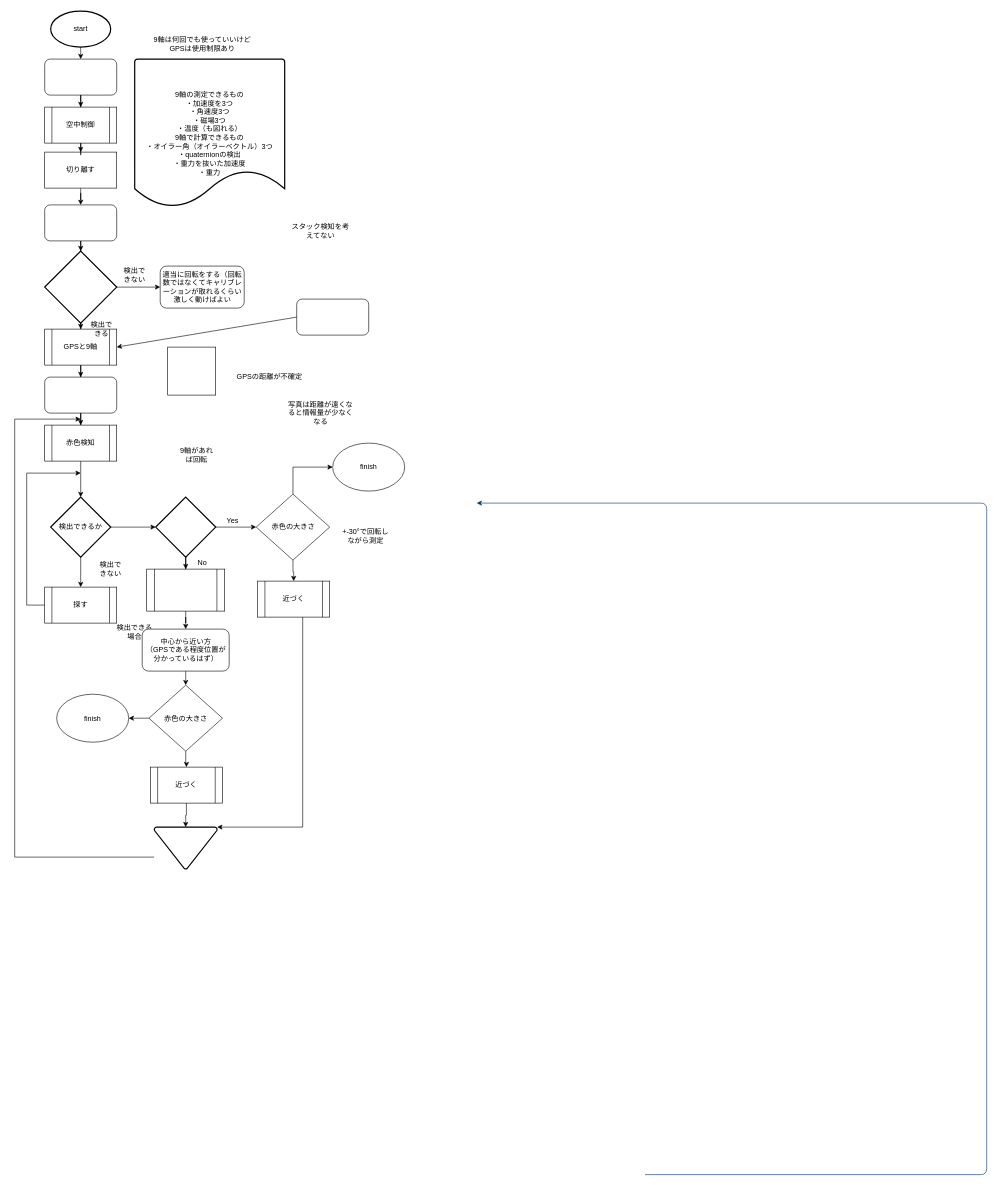
Image size: 1002x1190. Some labels were removed from this diagram. Here are the shapes that lost their labels. From the top down, the centre of each, then its label:
At pixel 80 76: "ピンが抜かれる".
At pixel 80 222: "9軸のキャリブレーションをする".
At pixel 80 286: "キャリブレーションの有無".
At pixel 332 316: "一回しか使えない 複数回使えたら楽".
At pixel 191 370: "GPSで測れるもの ・座標 ・高度 ・時間".
At pixel 80 394: "ゴールの方向を向く （ゴールの方向を確定する）".
At pixel 185 526: "単数に絞り込める".
At pixel 185 589: "物体検知 （教師あり学習）".
